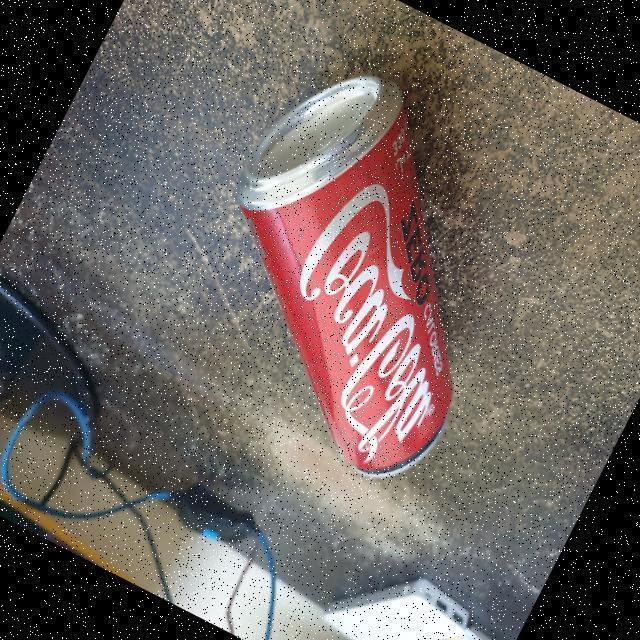Can: (229, 69, 463, 484)
